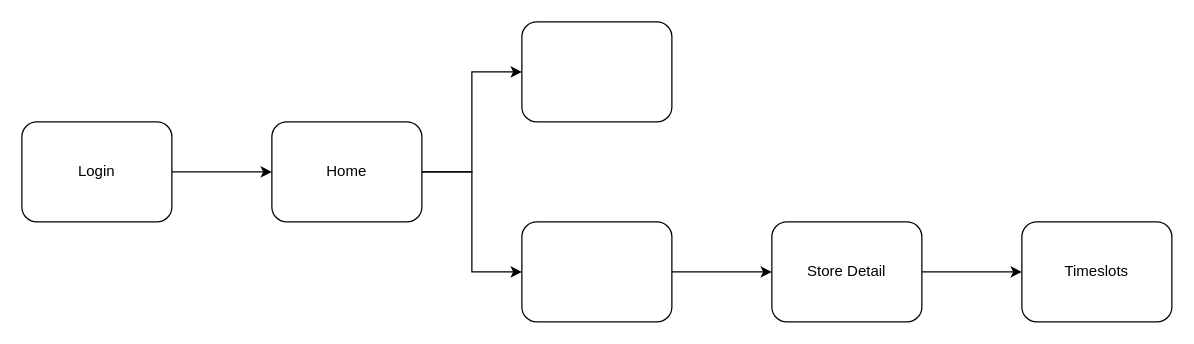
Some shapes in this 1194 by 344 pixel diagram are drawn without their labels. The centre of each missing label's shape, as x and y in pixels:
Statistics: (x=596, y=71)
Store List: (x=596, y=271)
